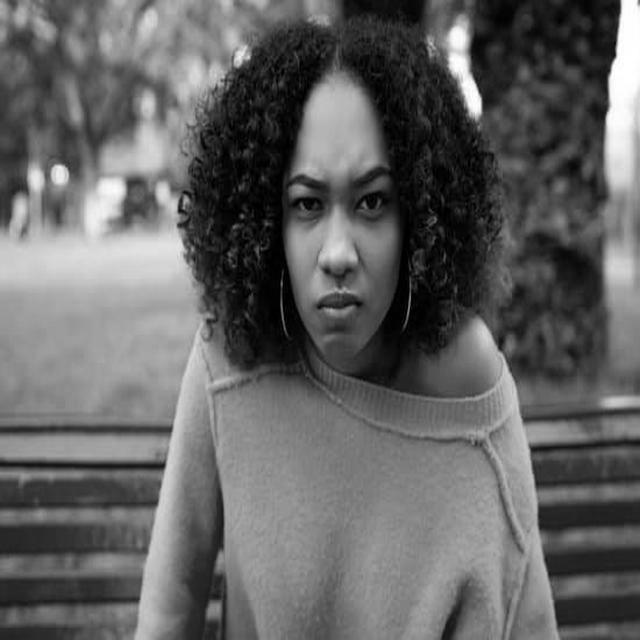Angry: (281, 82, 402, 362)
